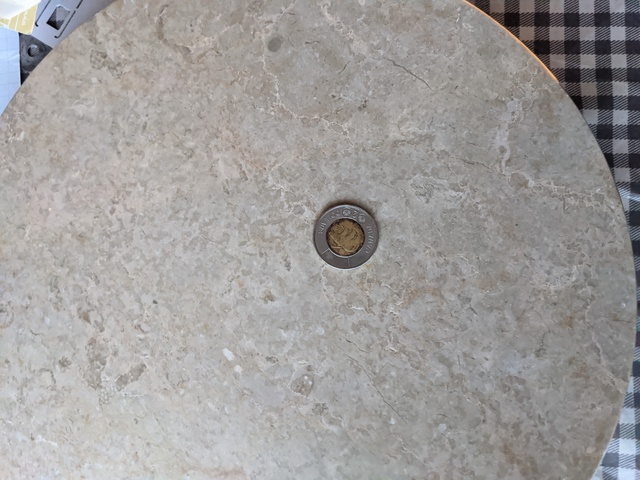twonie: (310, 198, 376, 271)
